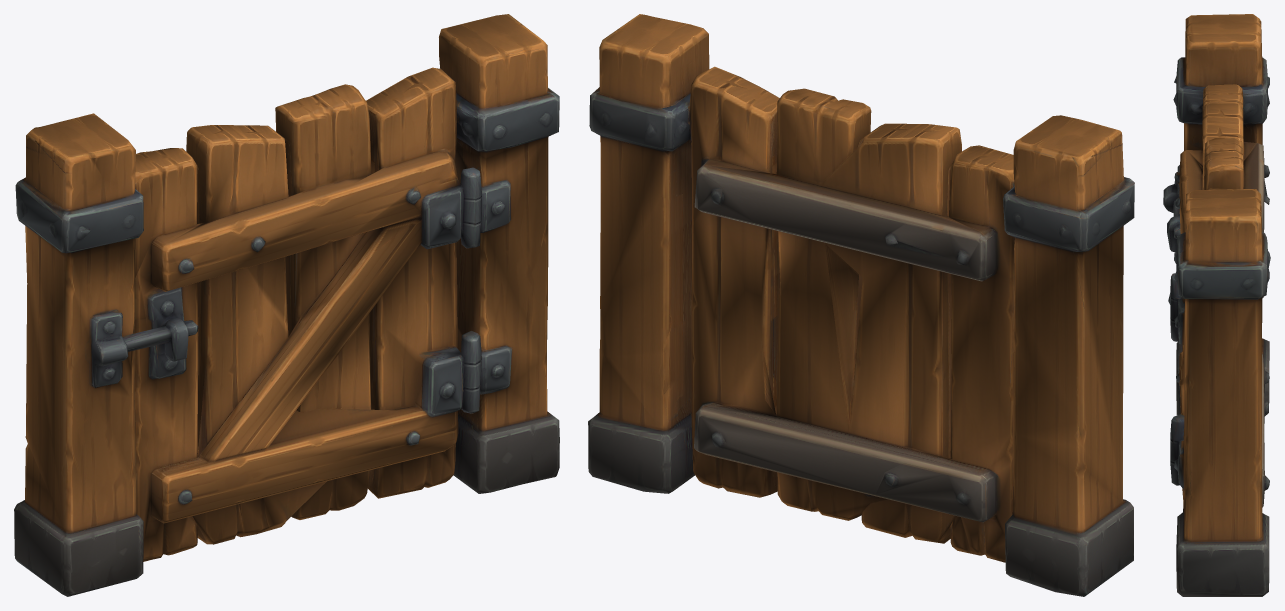
The model's file is FenceGate.fbx.
The picture shows the model from 3 angles, left to right: view 1: azimuth 30°, elevation 25°; view 2: azimuth 150°, elevation 25°; view 3: azimuth 270°, elevation 25°; orthographic projection. The views are drawn at different scales.
Parts seen in each view (by area): view 1: Mesh_0; view 2: Mesh_0; view 3: Mesh_0.
Boxes of the visible parts, x1=… form: Mesh_0: x1=14, y1=14, x2=559, y2=596; Mesh_0: x1=588, y1=14, x2=1134, y2=596; Mesh_0: x1=1163, y1=14, x2=1270, y2=596.
Bounding box in the file's own units: 191 × 158 × 40.69.
1 material, 1 textured.
